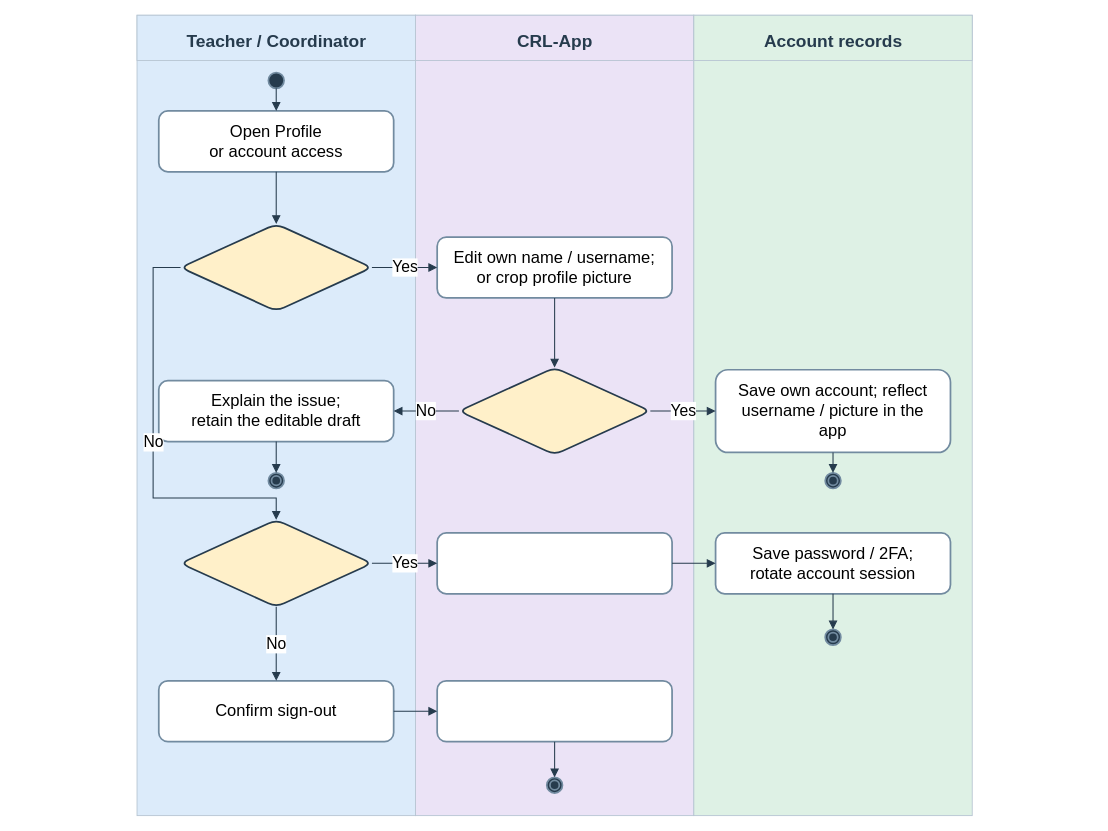
Some shapes in this 1108 by 831 pixel diagram are drawn without their labels. Each missing label, with the box of its shape:
End authorized session; return to account access: (436, 679, 673, 742)
Security / recovery?: (179, 519, 372, 607)
Update profile?: (179, 223, 372, 311)
Valid changes?: (458, 366, 651, 455)
Verify password and code; keep security checks: (436, 532, 673, 594)
